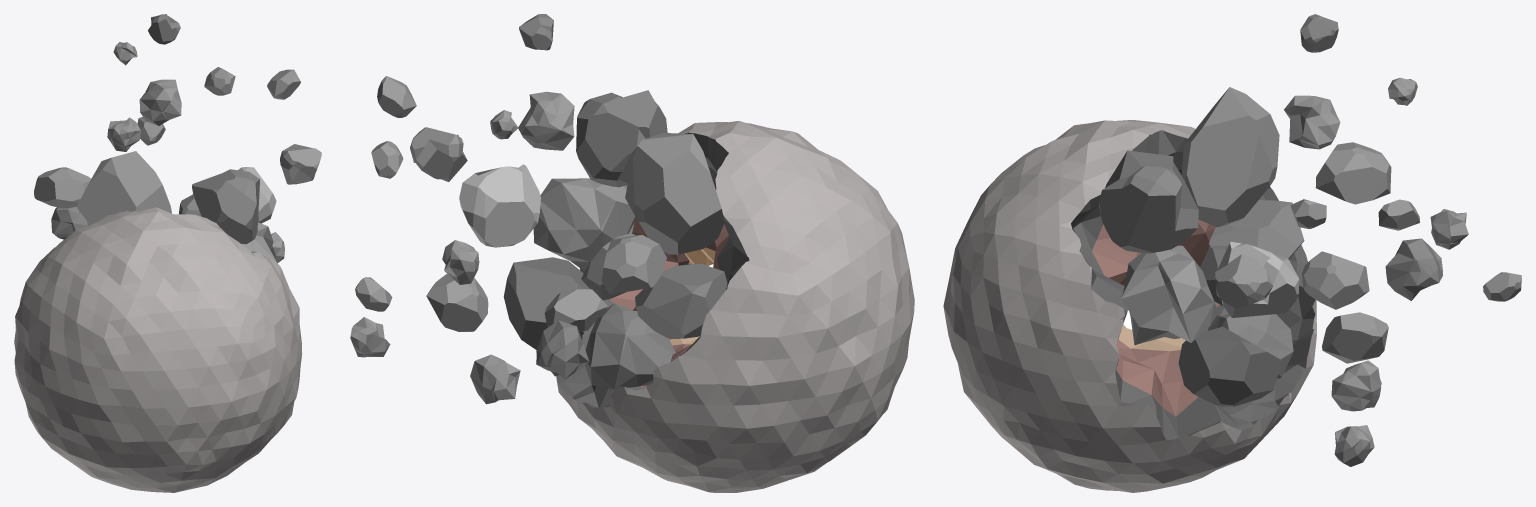
File: destroyed_moon.glb
The picture shows the model from 3 angles, left to right: view 1: azimuth 30°, elevation 25°; view 2: azimuth 150°, elevation 25°; view 3: azimuth 270°, elevation 25°; orthographic projection. The views are drawn at different scales.
Visible parts, largest first — view 1: Moon_0, MoonCrust.001_5, MoonCrust.015_2, MoonCrust.004_13, MoonCrust.013_16, MoonCrust_11, MoonCrust.011_10, MoonCrust.010_15, MoonCrust.019_21, MoonCrust.020_22, MoonCrust.016_9, MoonCrust.006_17 (+3 smaller); view 2: Moon_0, MoonCrust.001_5, MoonCrust.009_4, MoonCrust.015_2, MoonCrust.008_6, MoonCrust.016_9, MoonCrust.003_7, MoonCrust.014_3, MoonCrust.004_13, MoonCrust.013_16, MoonCrust.005_12, MoonCrust_11 (+10 smaller); view 3: Moon_0, MoonCrust.001_5, MoonCrust.015_2, MoonCrust.009_4, MoonCrust.014_3, MoonCrust.004_13, MoonCrust.003_7, MoonCrust.002_8, MoonCrust.016_9, MoonCrust.005_12, MoonCrust.011_10, MoonCrust.013_16 (+11 smaller).
Boxes of the visible parts, x1=… form: Moon_0: x1=14, y1=207, x2=302, y2=492; MoonCrust.001_5: x1=76, y1=151, x2=171, y2=224; MoonCrust.015_2: x1=192, y1=169, x2=259, y2=244; MoonCrust.004_13: x1=34, y1=167, x2=90, y2=208; MoonCrust.013_16: x1=139, y1=79, x2=181, y2=125; MoonCrust_11: x1=280, y1=144, x2=321, y2=184; MoonCrust.011_10: x1=51, y1=207, x2=89, y2=239; MoonCrust.010_15: x1=107, y1=117, x2=140, y2=151; MoonCrust.019_21: x1=148, y1=14, x2=180, y2=44; MoonCrust.020_22: x1=267, y1=69, x2=300, y2=99; MoonCrust.016_9: x1=238, y1=167, x2=276, y2=223; MoonCrust.006_17: x1=204, y1=67, x2=235, y2=95; Moon_0: x1=556, y1=121, x2=914, y2=492; MoonCrust.001_5: x1=625, y1=133, x2=724, y2=254; MoonCrust.009_4: x1=533, y1=178, x2=635, y2=270; MoonCrust.015_2: x1=576, y1=90, x2=667, y2=187; MoonCrust.008_6: x1=582, y1=303, x2=675, y2=389; MoonCrust.016_9: x1=459, y1=164, x2=540, y2=247; MoonCrust.003_7: x1=635, y1=263, x2=727, y2=339; MoonCrust.014_3: x1=503, y1=257, x2=613, y2=349; MoonCrust.004_13: x1=602, y1=235, x2=666, y2=294; MoonCrust.013_16: x1=518, y1=91, x2=574, y2=150; MoonCrust.005_12: x1=426, y1=274, x2=488, y2=331; MoonCrust_11: x1=410, y1=127, x2=467, y2=181; Moon_0: x1=943, y1=120, x2=1316, y2=492; MoonCrust.001_5: x1=1181, y1=87, x2=1279, y2=227; MoonCrust.015_2: x1=1099, y1=150, x2=1198, y2=253; MoonCrust.009_4: x1=1121, y1=245, x2=1218, y2=345; MoonCrust.014_3: x1=1178, y1=326, x2=1282, y2=406; MoonCrust.004_13: x1=1315, y1=142, x2=1391, y2=204; MoonCrust.003_7: x1=1207, y1=200, x2=1304, y2=259; MoonCrust.002_8: x1=1301, y1=251, x2=1369, y2=309; MoonCrust.016_9: x1=1214, y1=241, x2=1299, y2=317; MoonCrust.005_12: x1=1322, y1=312, x2=1388, y2=363; MoonCrust.011_10: x1=1385, y1=238, x2=1442, y2=300; MoonCrust.013_16: x1=1284, y1=95, x2=1340, y2=149.
Size of the model in its own units: 6.06 by 6.81 by 6.99.
